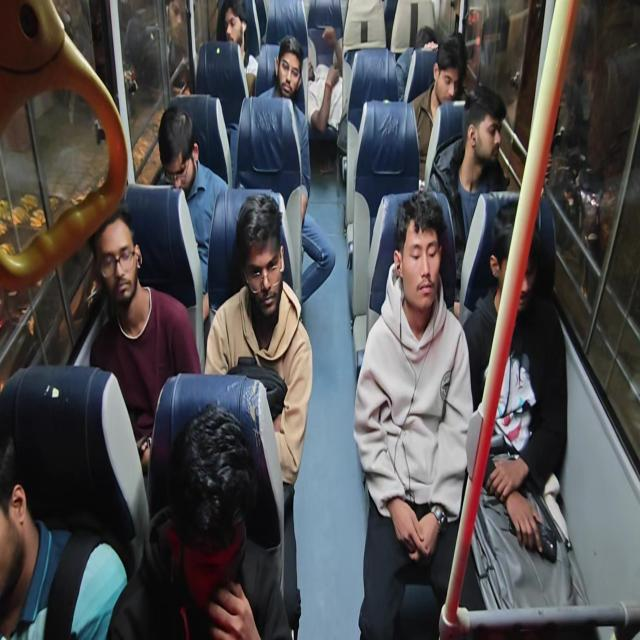person: (156, 412, 259, 640), (0, 430, 80, 608), (392, 205, 492, 340), (211, 177, 289, 347), (489, 212, 562, 360), (299, 41, 357, 166), (92, 208, 134, 356), (434, 37, 486, 119), (462, 100, 514, 178), (157, 83, 190, 191), (226, 7, 266, 74), (416, 22, 446, 68), (277, 37, 297, 102)
